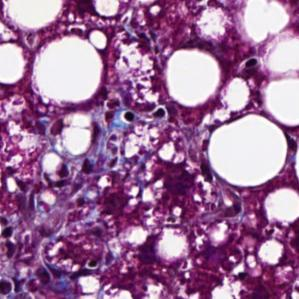inflammation: (115, 101, 170, 127), (80, 253, 103, 272)
